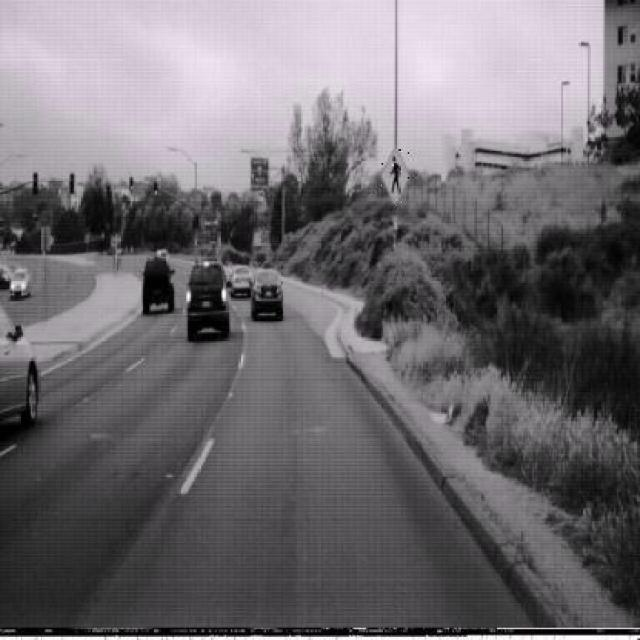pedestrianCrossing: (380, 144, 411, 204)
